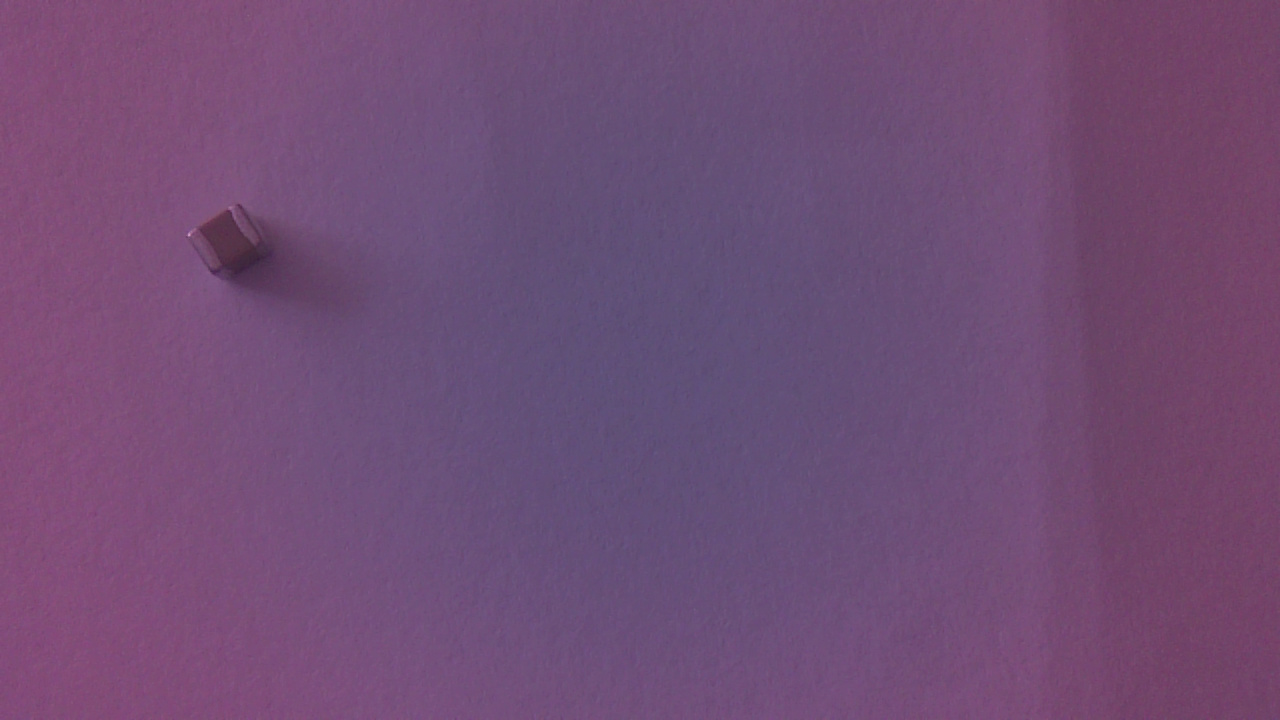Condensator: (186, 203, 283, 291)
